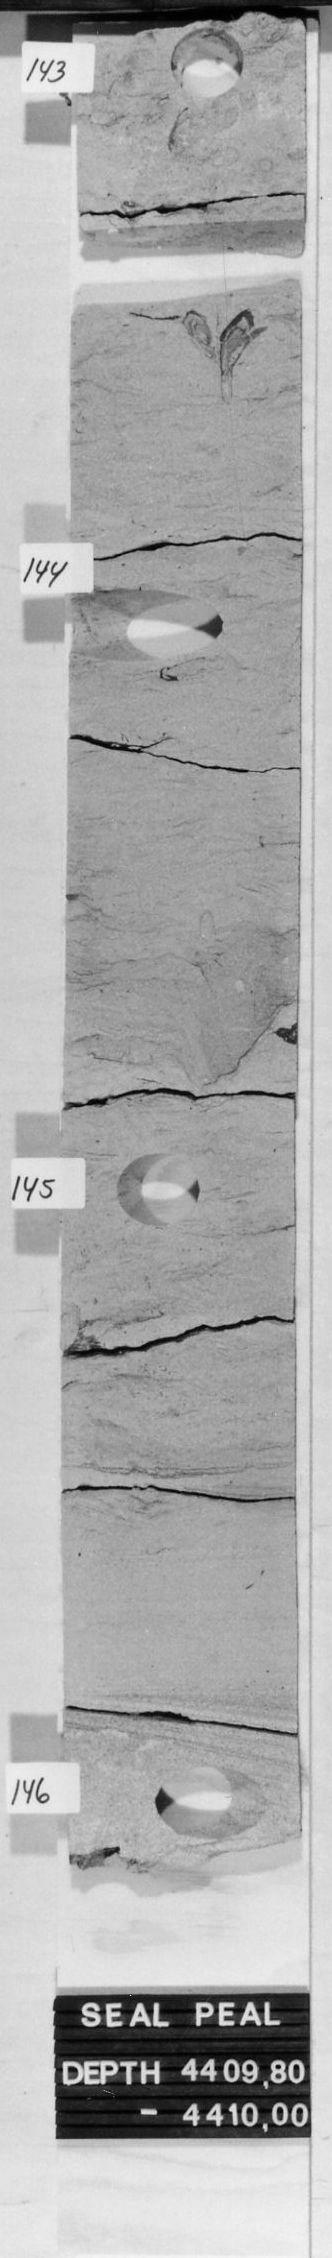hplug: (72, 586, 230, 665), (149, 1763, 275, 1843), (111, 1151, 216, 1236)
scal: (78, 215, 300, 312)
vplug: (165, 24, 250, 102)
